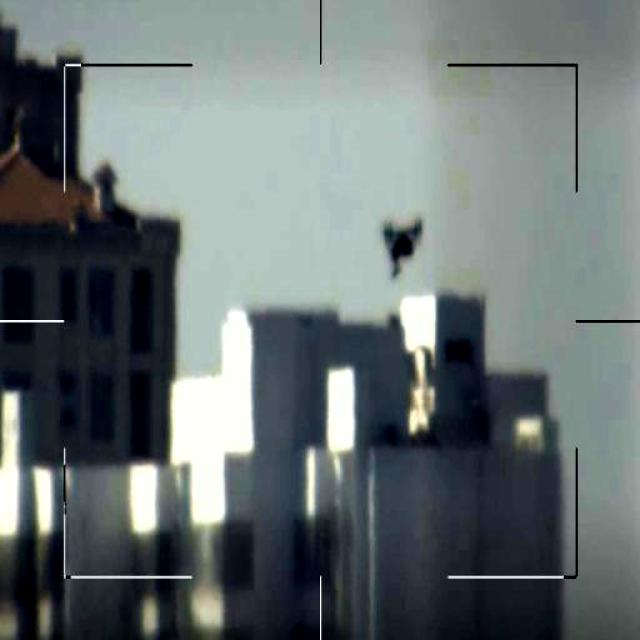bird: (379, 210, 429, 284)
